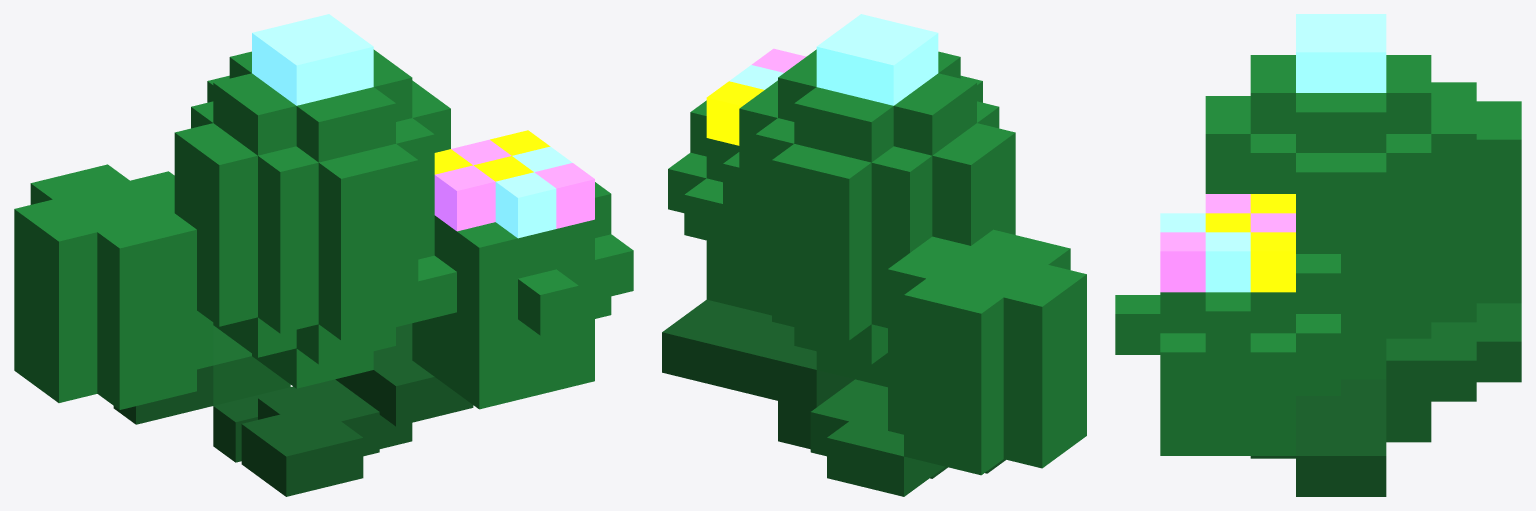
Rendered from plant_WandOfRegrowth.Seedpod.glb.
3 renders of one model, left to right at view 1: azimuth 30°, elevation 25°; view 2: azimuth 150°, elevation 25°; view 3: azimuth 270°, elevation 25°, orthographic.
Visible parts, largest first — view 1: item_PLANT_WandOfRegrowth_Seedpod; view 2: item_PLANT_WandOfRegrowth_Seedpod; view 3: item_PLANT_WandOfRegrowth_Seedpod.
Part boxes in pixels (x1,y1,x2,y2): item_PLANT_WandOfRegrowth_Seedpod: [14, 14, 633, 496]; item_PLANT_WandOfRegrowth_Seedpod: [662, 14, 1086, 496]; item_PLANT_WandOfRegrowth_Seedpod: [1115, 14, 1521, 496].
Size of the model in its own units: 0.2727 by 0.2273 by 0.2045.
1 material, 1 textured.
